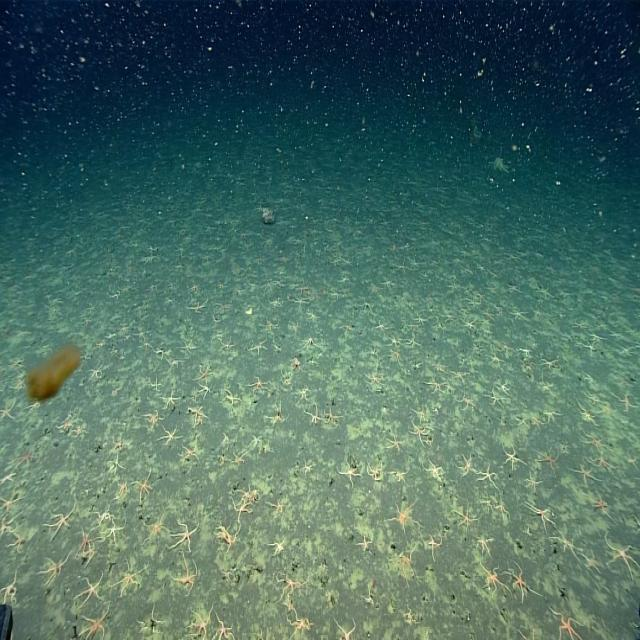brittle-stars: (36, 486, 85, 541), (34, 544, 76, 597), (500, 559, 545, 604), (601, 532, 640, 582), (66, 566, 110, 610), (107, 557, 151, 599), (168, 553, 206, 600), (547, 603, 593, 640), (386, 495, 422, 541), (476, 559, 512, 604), (272, 605, 317, 640), (272, 566, 312, 605), (384, 547, 421, 589), (136, 595, 170, 640), (68, 608, 114, 640), (0, 564, 26, 620), (138, 502, 170, 547), (522, 502, 566, 534), (205, 519, 245, 554), (182, 602, 217, 640), (167, 518, 204, 553), (468, 455, 502, 493), (206, 598, 236, 640), (530, 444, 565, 479), (448, 500, 479, 539), (467, 529, 500, 564), (231, 483, 262, 520), (334, 449, 360, 493), (420, 457, 446, 499), (568, 458, 598, 494), (132, 463, 158, 504), (424, 527, 446, 572), (551, 532, 585, 561), (262, 401, 293, 432), (75, 526, 99, 566), (100, 517, 129, 550), (587, 446, 616, 479), (570, 406, 605, 433), (580, 546, 606, 581), (0, 394, 20, 438), (330, 315, 359, 345), (327, 614, 360, 640), (455, 446, 478, 483), (520, 473, 549, 502), (404, 424, 436, 450), (11, 446, 39, 475), (183, 292, 212, 320), (89, 502, 114, 534), (502, 440, 526, 473), (616, 386, 638, 422), (0, 490, 27, 519), (155, 420, 185, 446), (385, 426, 406, 462), (421, 376, 448, 404), (431, 310, 452, 346), (490, 495, 516, 524), (139, 408, 164, 438), (362, 369, 391, 394), (187, 400, 208, 434), (576, 432, 610, 453), (590, 492, 612, 524), (570, 305, 592, 337), (262, 534, 288, 561), (245, 371, 272, 397), (536, 353, 563, 379), (53, 407, 78, 435), (398, 600, 421, 630), (268, 489, 288, 523), (389, 463, 415, 489), (452, 313, 479, 338), (364, 458, 387, 487), (324, 403, 346, 433), (304, 400, 324, 433), (178, 440, 202, 466), (450, 392, 479, 413), (249, 314, 281, 333), (0, 467, 20, 497), (101, 284, 124, 310), (66, 422, 94, 443), (106, 451, 127, 479), (292, 460, 321, 480), (232, 443, 254, 469), (391, 252, 413, 278), (8, 528, 28, 556), (502, 302, 530, 322), (483, 347, 505, 372), (111, 477, 131, 504), (356, 531, 376, 558), (446, 367, 473, 387), (481, 391, 508, 411), (288, 291, 316, 310), (510, 624, 542, 640), (162, 386, 184, 409), (205, 326, 233, 344), (575, 338, 599, 359), (243, 337, 268, 357), (540, 408, 565, 428), (86, 362, 105, 388), (0, 514, 18, 541), (617, 339, 635, 366), (177, 334, 199, 356), (361, 583, 377, 613), (278, 367, 296, 393), (76, 309, 94, 335), (108, 432, 128, 455), (220, 562, 240, 585), (263, 295, 287, 314), (304, 329, 322, 354), (412, 401, 430, 426), (198, 356, 215, 382), (536, 280, 556, 302), (215, 447, 234, 470), (298, 377, 313, 406), (589, 320, 605, 347), (502, 281, 526, 299), (224, 388, 241, 413), (429, 358, 450, 378), (535, 380, 556, 400), (364, 342, 383, 364), (352, 300, 377, 316), (443, 268, 463, 288), (147, 374, 166, 395), (132, 322, 147, 347), (144, 277, 160, 300), (218, 336, 238, 354), (286, 355, 306, 373), (381, 269, 396, 293), (495, 379, 514, 397), (512, 413, 531, 431), (196, 379, 213, 399), (250, 429, 266, 450), (388, 349, 404, 370), (293, 281, 314, 297), (219, 424, 234, 446), (155, 338, 167, 365), (478, 497, 494, 517), (106, 326, 122, 346), (404, 333, 422, 350), (517, 342, 536, 358), (409, 314, 429, 329), (288, 317, 304, 335), (370, 317, 388, 333), (169, 353, 182, 375), (188, 278, 202, 298), (213, 297, 230, 313), (528, 413, 543, 431), (303, 309, 322, 323), (368, 278, 382, 297), (480, 304, 494, 322), (117, 318, 130, 337), (144, 336, 154, 356), (386, 337, 400, 351)
